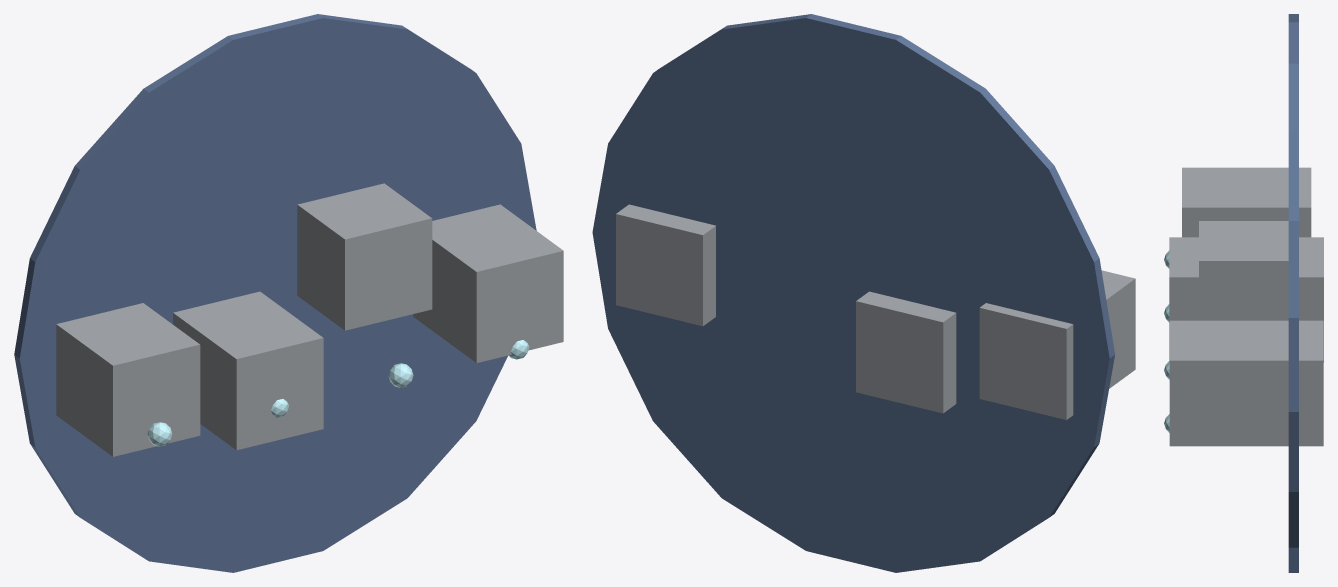
File: 02_local_prop_cluster.glb
3 renders of one model, left to right at view 1: azimuth 30°, elevation 25°; view 2: azimuth 150°, elevation 25°; view 3: azimuth 270°, elevation 25°, orthographic. The views are drawn at different scales.
Parts seen in each view (by area): view 1: scatter_base, tech_crate_0, tech_crate_3, tech_crate_1, tech_crate_2; view 2: scatter_base, tech_crate_0, tech_crate_1, tech_crate_3; view 3: tech_crate_3, tech_crate_2, tech_crate_0, scatter_base, tech_crate_1.
Boxes of the visible parts, bbox=[...] form: scatter_base: bbox=[14, 14, 536, 572]; tech_crate_0: bbox=[56, 303, 200, 456]; tech_crate_3: bbox=[413, 204, 563, 362]; tech_crate_1: bbox=[173, 291, 323, 450]; tech_crate_2: bbox=[297, 183, 432, 330]; scatter_base: bbox=[592, 14, 1114, 572]; tech_crate_0: bbox=[979, 270, 1135, 419]; tech_crate_1: bbox=[856, 291, 956, 413]; tech_crate_3: bbox=[616, 204, 715, 326]; tech_crate_3: bbox=[1169, 320, 1323, 446]; tech_crate_2: bbox=[1199, 221, 1288, 320]; tech_crate_0: bbox=[1182, 167, 1311, 237]; scatter_base: bbox=[1288, 14, 1298, 572]; tech_crate_1: bbox=[1169, 237, 1323, 362].
Bounding box in the file's own units: 1.9 × 1.87 × 0.5416.
